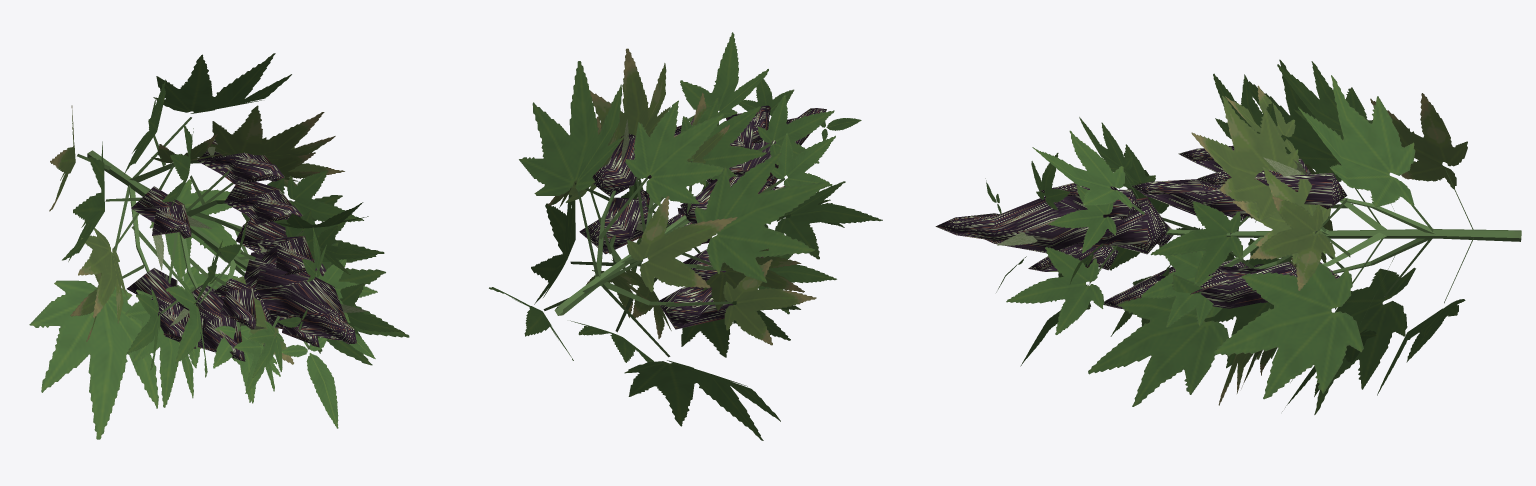
Rendered from p_dark_hybrid_ripe_c0_cards.obj.
3 renders of one model, left to right at view 1: azimuth 30°, elevation 25°; view 2: azimuth 150°, elevation 25°; view 3: azimuth 270°, elevation 25°, orthographic. The views are drawn at different scales.
Bounding box in the file's own units: 1.32 × 1.49 × 1.65.
Materials: 1 (1 with a texture image).
